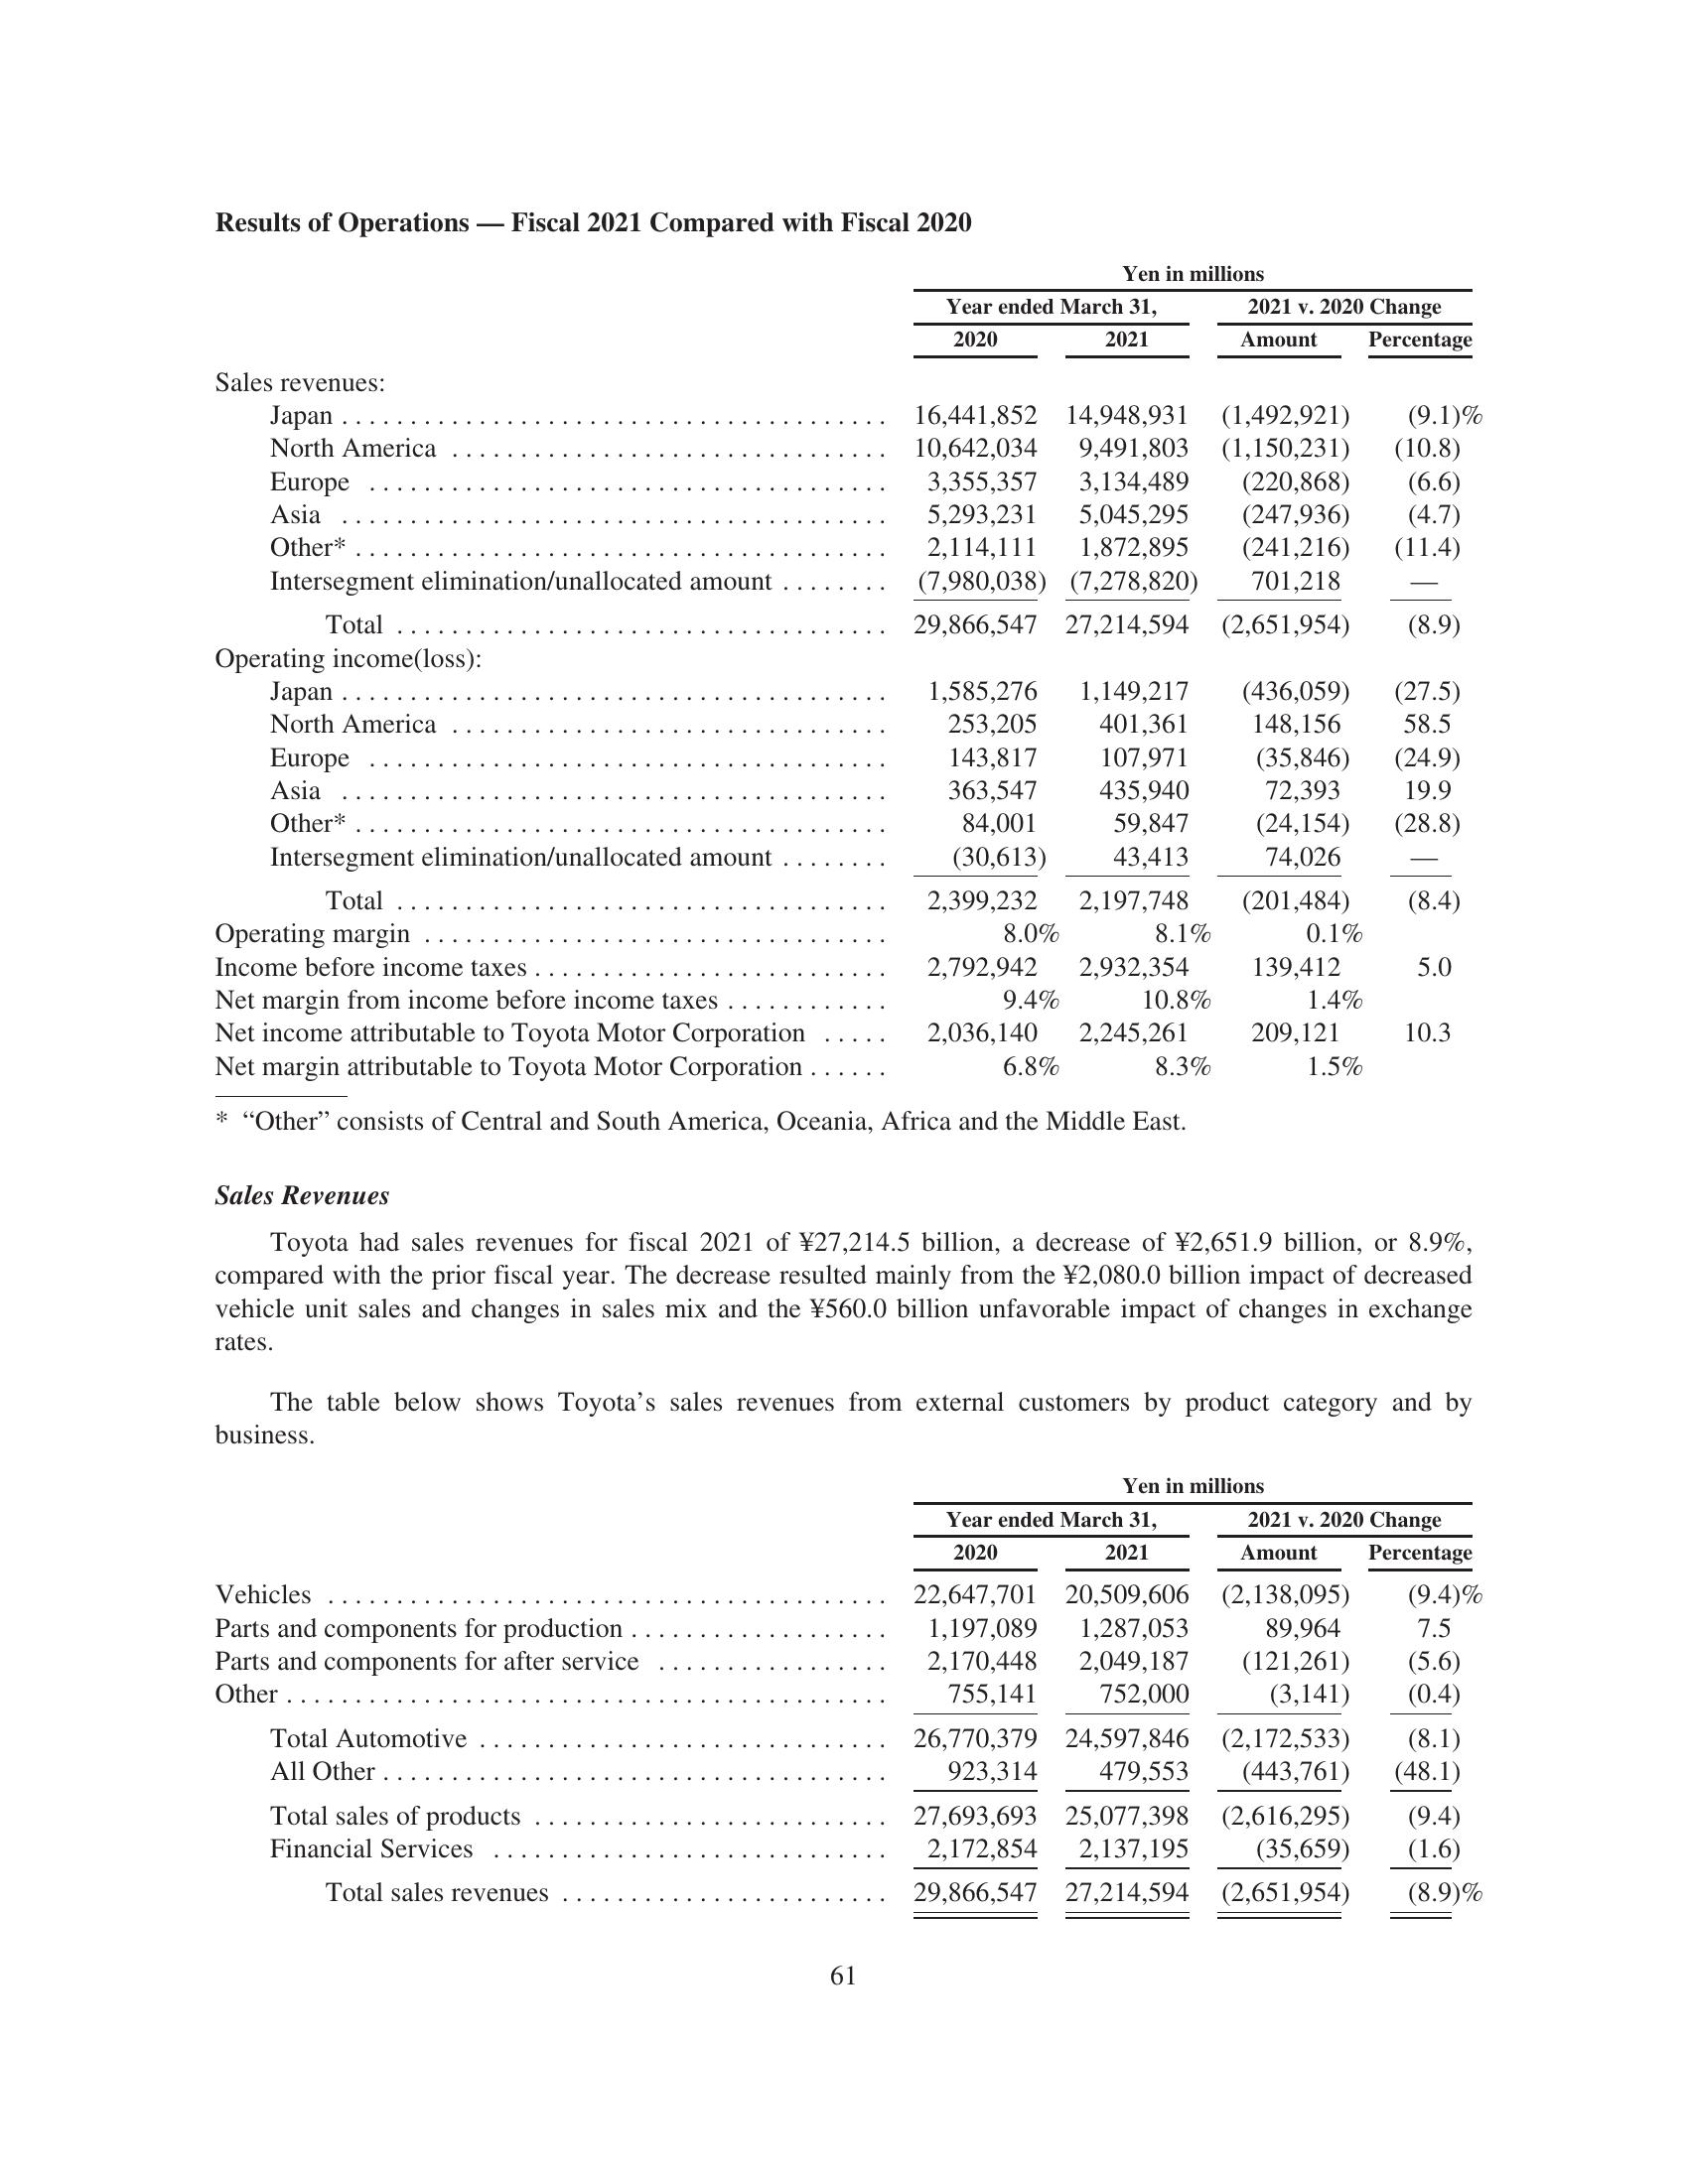Footer: (2, 1975, 1688, 2184)
Header: (0, 0, 1688, 195)
Table: (154, 252, 1564, 1103), (154, 1457, 1555, 1966)
